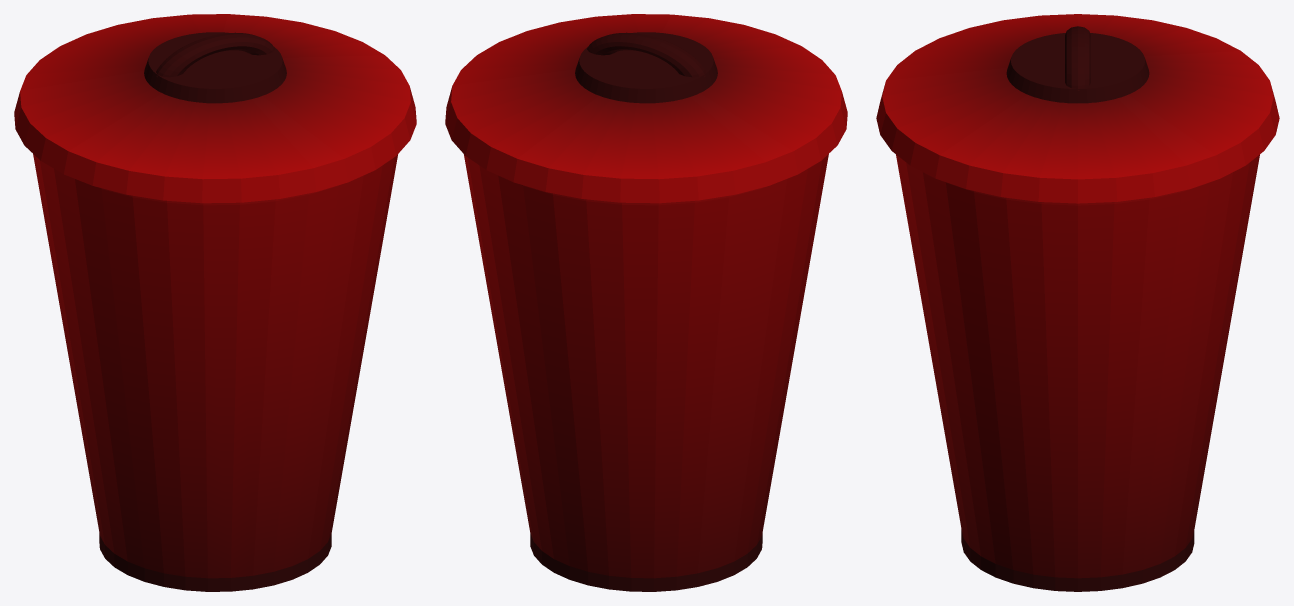
File: TrashCan.fbx
3 renders of one model, left to right at view 1: azimuth 30°, elevation 25°; view 2: azimuth 150°, elevation 25°; view 3: azimuth 270°, elevation 25°, orthographic.
Parts seen in each view (by area): view 1: Cylinder; view 2: Cylinder; view 3: Cylinder.
Boxes of the visible parts, x1,y1,x2,y2 form: Cylinder: (14,14,416,591); Cylinder: (445,14,847,591); Cylinder: (876,14,1279,591).
Size of the model in its own units: 278 by 384 by 278.
